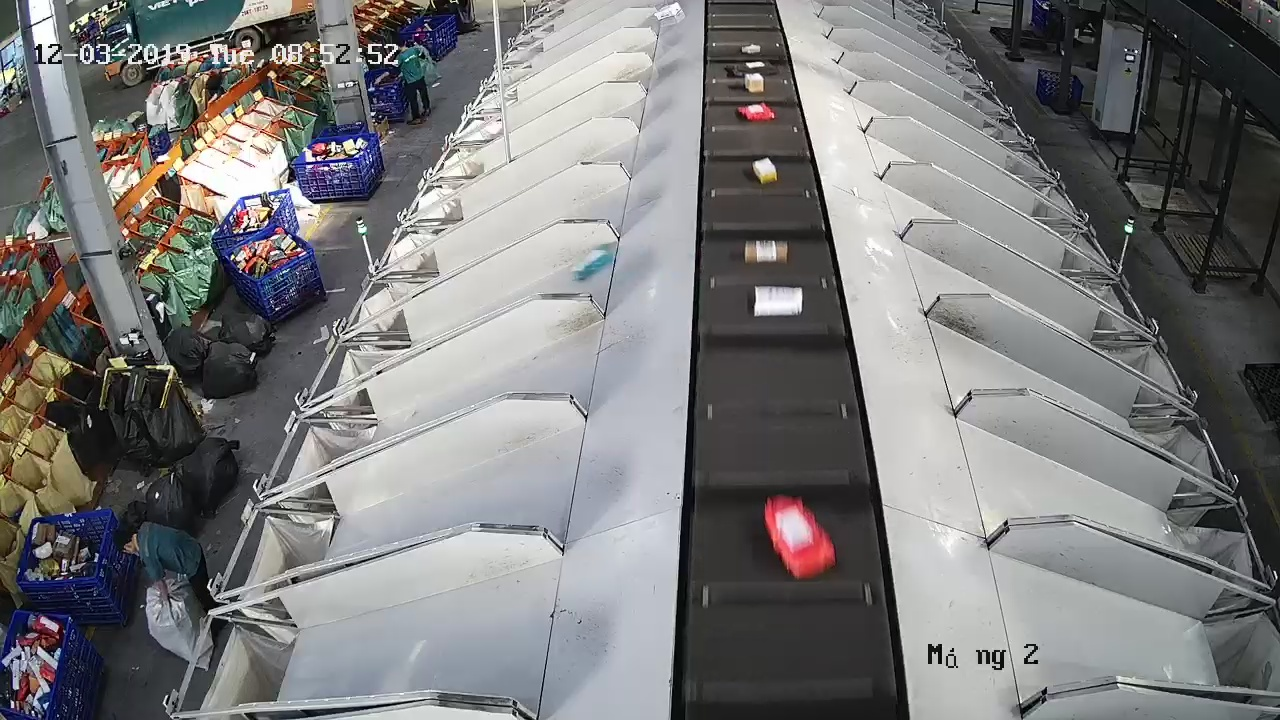parcel: (762, 493, 837, 581), (752, 284, 804, 318), (570, 247, 614, 281), (743, 238, 789, 266), (752, 155, 778, 186)
